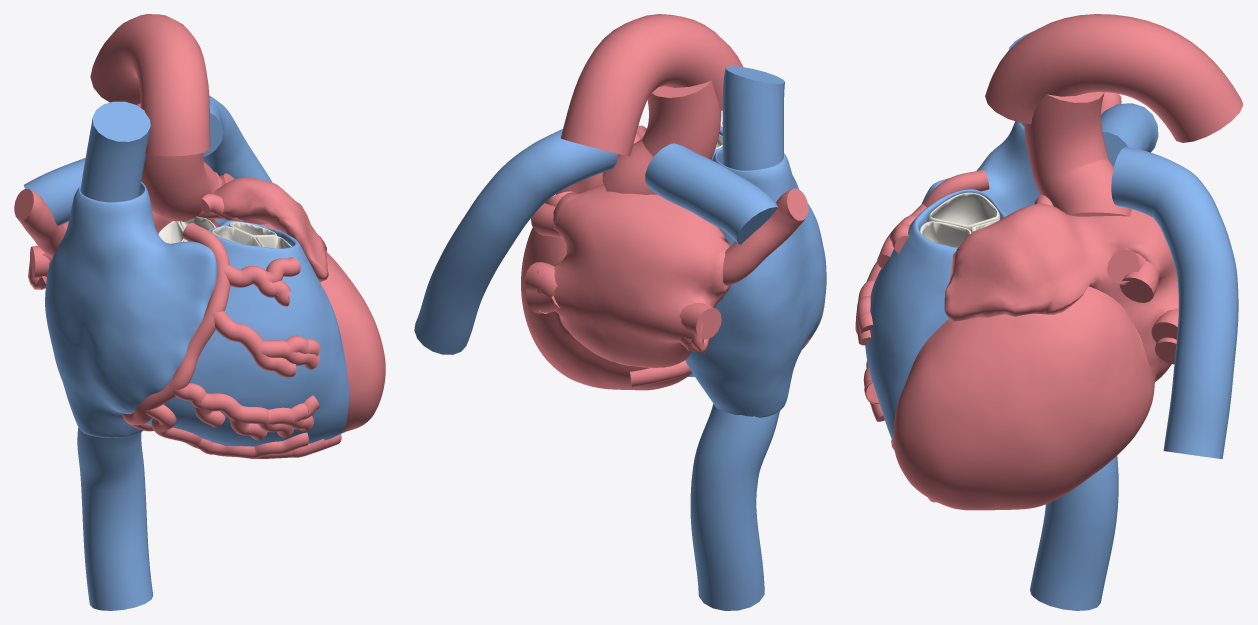
The model's file is heart-v6.glb.
3 views of the same model, side by side, from view 1: azimuth 30°, elevation 25°; view 2: azimuth 150°, elevation 25°; view 3: azimuth 270°, elevation 25° (orthographic). The views are drawn at different scales.
Visible parts, largest first — view 1: right_atrium, right_ventricle, coronary_artery_2, aorta_2, inferior_vena_cava, left_ventricle, superior_vena_cava, left_atrium, aorta, pulmonary_artery, pulmonary_artery_2, pulmonary_veins_3 (+3 smaller); view 2: left_atrium, right_atrium, pulmonary_artery, aorta_2, inferior_vena_cava, pulmonary_artery_2, aorta, superior_vena_cava, left_ventricle, pulmonary_veins_3, pulmonary_veins_2, pulmonary_veins_4 (+2 smaller); view 3: left_ventricle, pulmonary_artery, left_atrium, aorta_2, right_ventricle, inferior_vena_cava, aorta, coronary_artery_2, right_atrium, pulmonary_artery_2, pulmonary_veins, pulmonary_valve_3 (+2 smaller).
Part boxes in pixels (box(x1,y1,x2,y2)): right_atrium: box(45, 182, 216, 437); right_ventricle: box(146, 218, 348, 446); coronary_artery_2: box(122, 223, 341, 458); aorta_2: box(90, 14, 210, 156); inferior_vena_cava: box(77, 428, 153, 610); left_ventricle: box(208, 219, 385, 432); superior_vena_cava: box(80, 101, 150, 202); left_atrium: box(28, 172, 328, 289); aorta: box(137, 103, 218, 222); pulmonary_artery: box(203, 95, 272, 182); pulmonary_artery_2: box(24, 158, 85, 225); pulmonary_veins_3: box(14, 189, 65, 256); left_atrium: box(535, 125, 730, 367); right_atrium: box(685, 147, 826, 417); pulmonary_artery: box(414, 129, 617, 354); aorta_2: box(560, 14, 743, 156); inferior_vena_cava: box(690, 404, 779, 610); pulmonary_artery_2: box(645, 143, 778, 244); aorta: box(602, 80, 721, 194); superior_vena_cava: box(722, 66, 784, 170); left_ventricle: box(521, 227, 692, 390); pulmonary_veins_3: box(723, 188, 808, 285); pulmonary_veins_2: box(525, 262, 559, 313); pulmonary_veins_4: box(679, 303, 721, 351); left_ventricle: box(893, 286, 1155, 510); pulmonary_artery: box(1111, 147, 1238, 459); left_atrium: box(944, 203, 1178, 381); aorta_2: box(985, 14, 1243, 142); right_ventricle: box(865, 189, 1007, 441); inferior_vena_cava: box(1030, 455, 1118, 610); aorta: box(1024, 92, 1131, 216); coronary_artery_2: box(855, 169, 989, 502); right_atrium: box(921, 121, 1089, 286); pulmonary_artery_2: box(1100, 103, 1158, 167); pulmonary_veins: box(1107, 249, 1159, 302); pulmonary_valve_3: box(927, 192, 1000, 231).
Size of the model in its own units: 0.1422 by 0.2274 by 0.1291.
